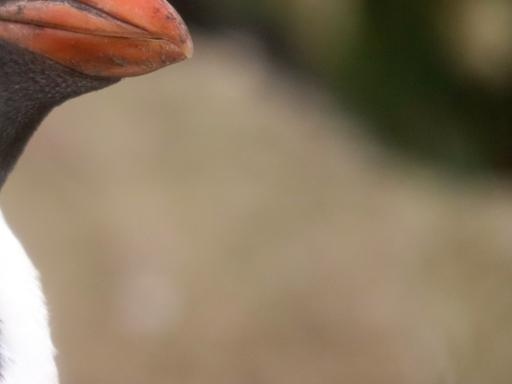Southern Rockhopper Penguin: (0, 0, 213, 383)
